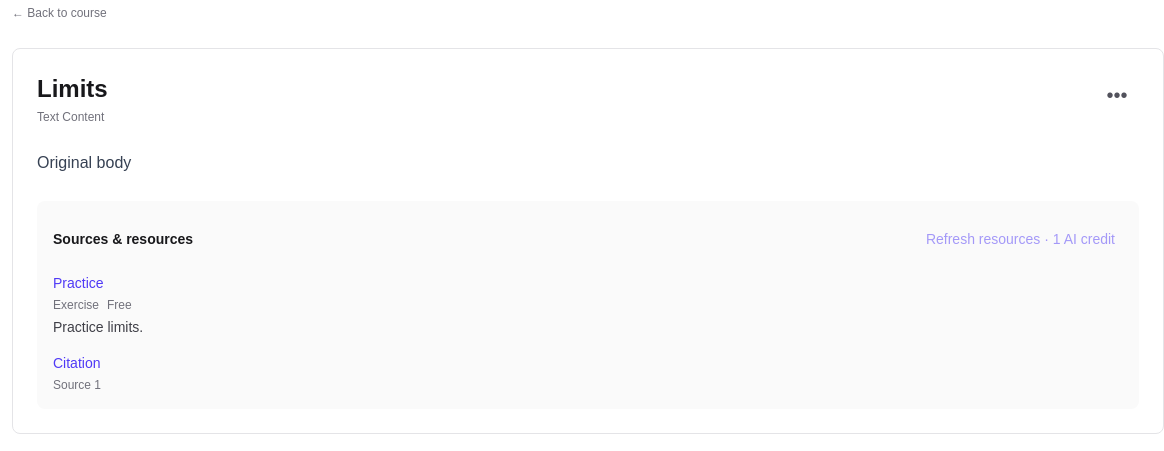
it: lesson actions and resource refresh › offers feedback to shared users while reserving replacement for editors
The image size is (1164, 451).
Click the button named "Lesson actions" at [1117, 95], box [1095,73,1139,117]
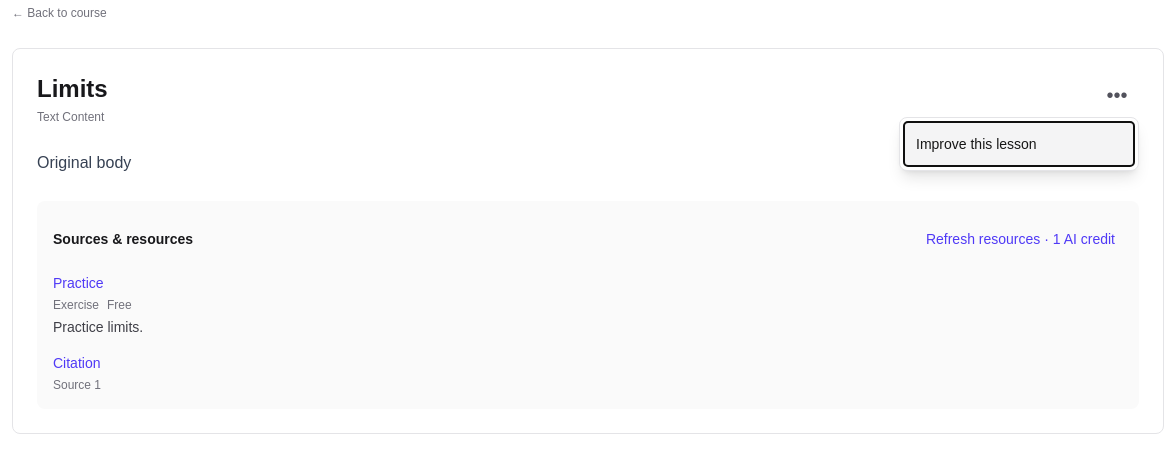
Now the menu item "Improve this lesson" is shown, box [904,122,1134,166]
